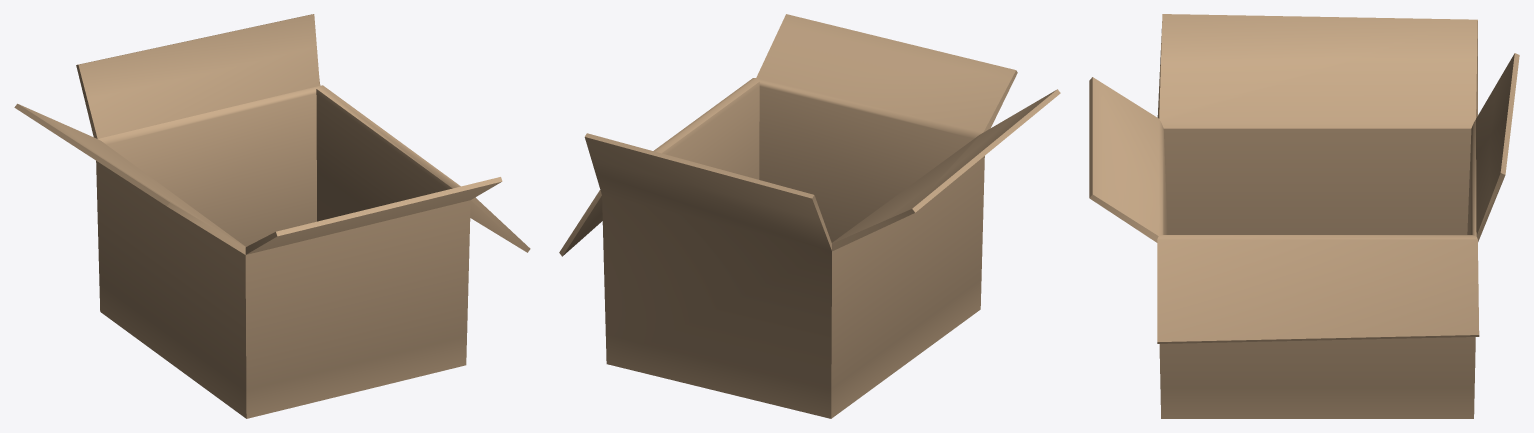
The model's file is x_cardboardbox.fbx.
3 renders of one model, left to right at view 1: azimuth 30°, elevation 25°; view 2: azimuth 150°, elevation 25°; view 3: azimuth 270°, elevation 25°, orthographic. The views are drawn at different scales.
Visible parts, largest first — view 1: x_cardboardbox_baked; view 2: x_cardboardbox_baked; view 3: x_cardboardbox_baked.
Boxes of the visible parts, box(x1,y1,x2,y2) form: x_cardboardbox_baked: box(14, 14, 530, 418); x_cardboardbox_baked: box(559, 14, 1060, 418); x_cardboardbox_baked: box(1089, 14, 1519, 418).
Size of the model in its own units: 0.9045 by 0.5532 by 0.8604.
